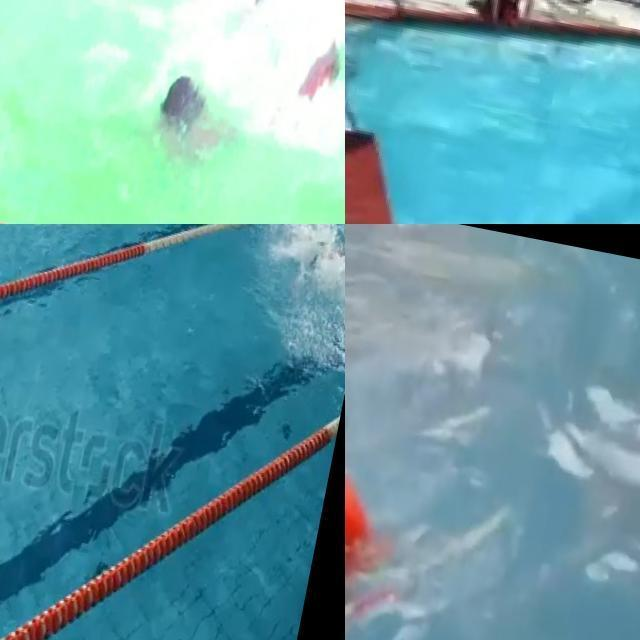3: (127, 46, 252, 193)
6: (345, 243, 432, 640), (242, 0, 345, 126), (284, 224, 345, 304)
drowning: (460, 0, 553, 45)
